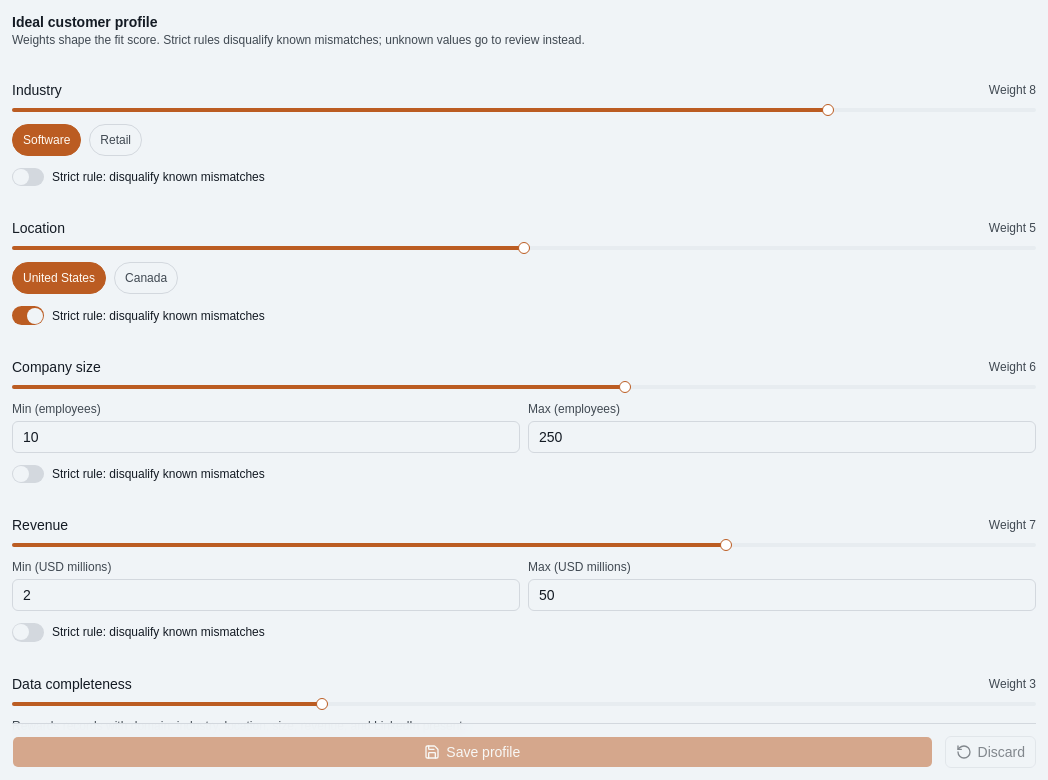
Test case: IcpSettings › enters revenue in millions but stores USD, and flags inverted ranges
The image size is (1048, 780).
Replace the text in the number field labelled "Max (USD millions)" with "1.5" at (782,595), box [528,579,1036,611]
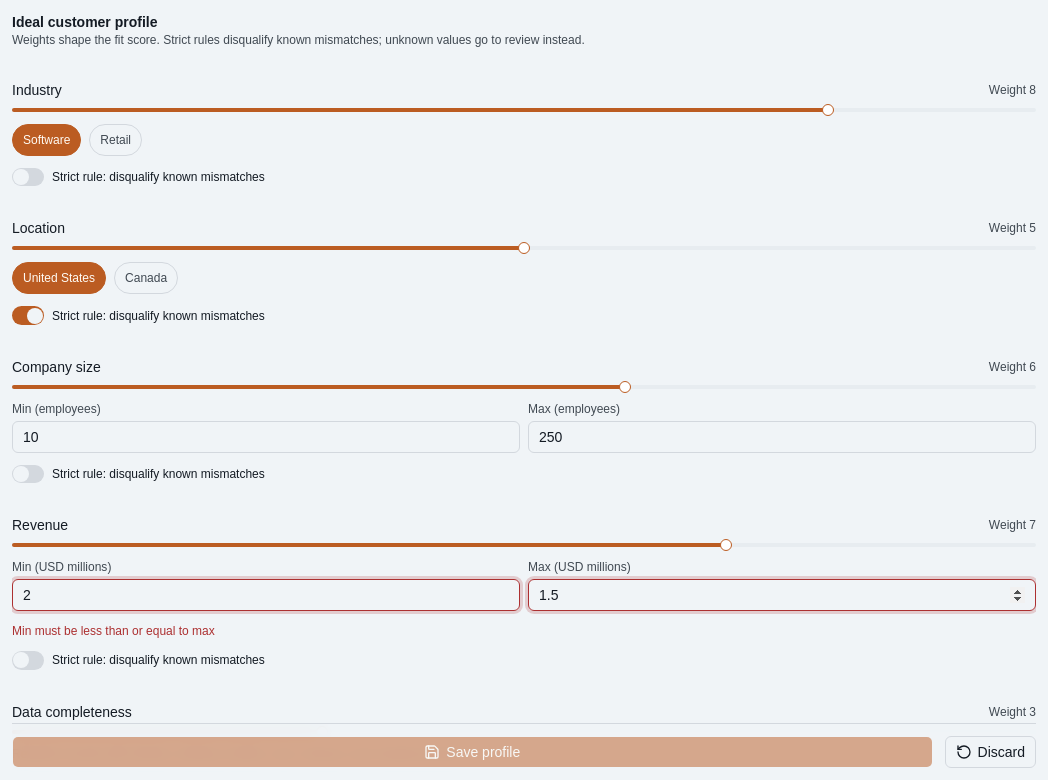
Expected: the button "Save profile" is disabled, [12,736,932,768]
Now the text "Min must be less than or equal to max" is shown, box [12,624,215,638]
